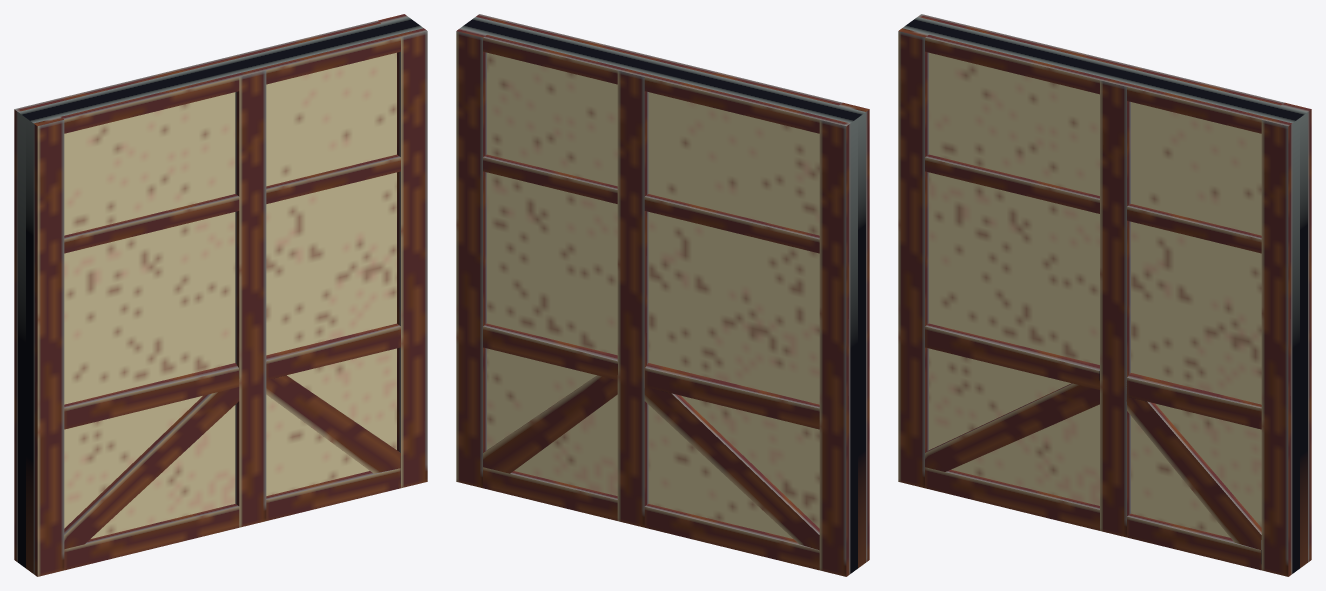
Rendered from ShorterWall.fbx.
3 views of the same model, side by side, from view 1: azimuth 30°, elevation 25°; view 2: azimuth 150°, elevation 25°; view 3: azimuth 330°, elevation 25° (orthographic).
Visible parts, largest first — view 1: Short_Wall; view 2: Short_Wall; view 3: Short_Wall.
Part boxes in pixels (x1,y1,x2,y2): Short_Wall: (14,14,427,576); Short_Wall: (456,14,869,576); Short_Wall: (898,14,1311,576).
Size of the model in its own units: 3.62 by 0.375 by 4.
